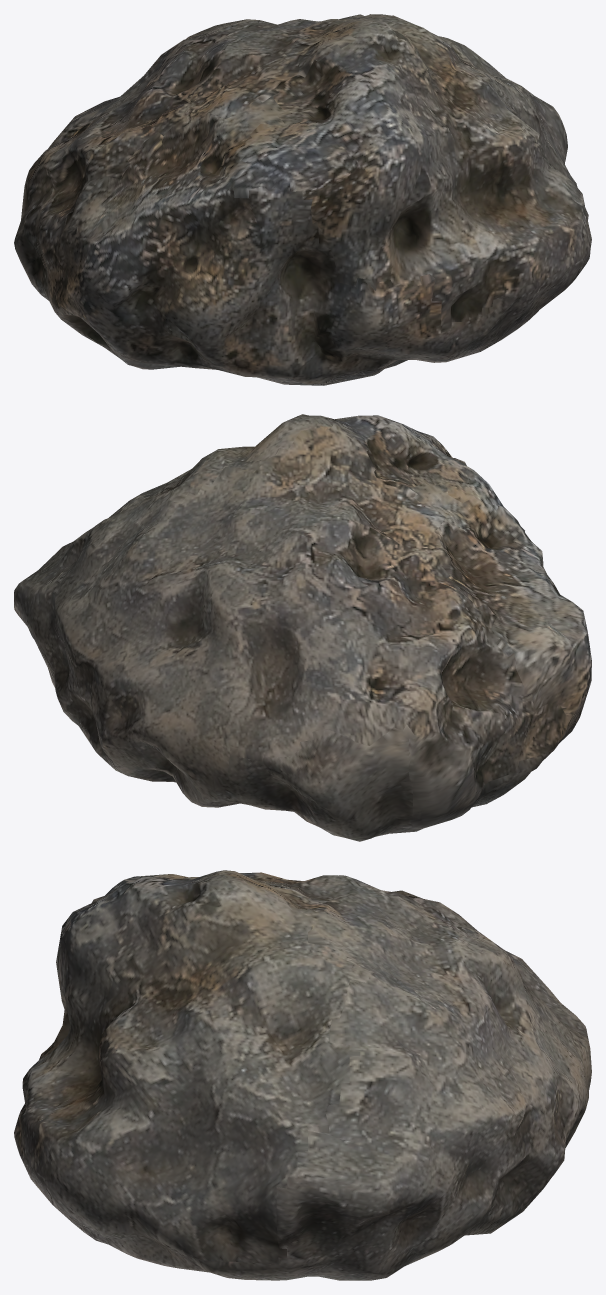
File: asteroid_common_1_lod1.glb
The picture shows the model from 3 angles, top to bottom: view 1: azimuth 30°, elevation 25°; view 2: azimuth 150°, elevation 25°; view 3: azimuth 270°, elevation 25°; orthographic projection. The views are drawn at different scales.
Visible parts, largest first — view 1: model; view 2: model; view 3: model.
Boxes of the visible parts, box(x1,y1,x2,y2) form: model: box(14, 14, 591, 385); model: box(14, 414, 591, 841); model: box(14, 870, 591, 1280).
Size of the model in its own units: 1.88 by 1.15 by 1.66.
Materials: 1 (1 with a texture image).
